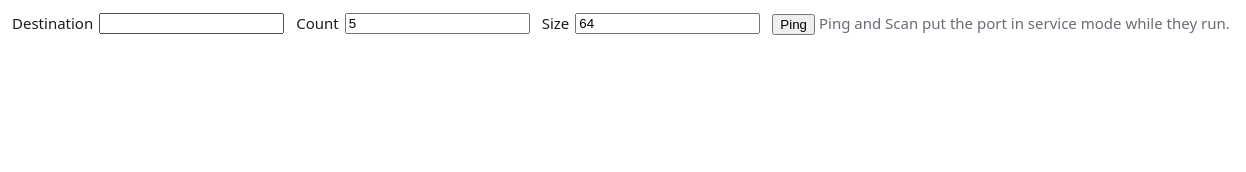
it: PingPanel › shows a rejected ping and a failed service restore
The image size is (1246, 172).
Type "2.2.2.2" into the field labelled "Destination" at (192, 23), box [99,13,284,34]
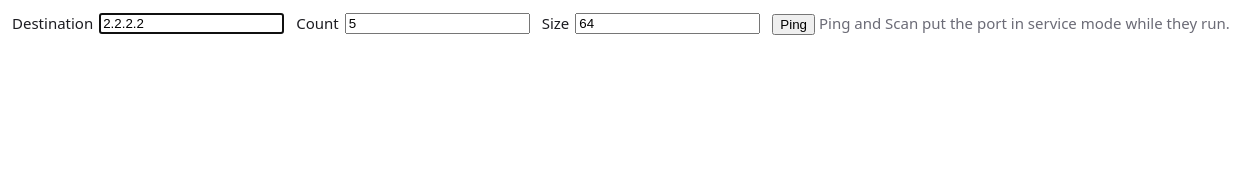
Click the button "Ping" at (794, 24), box [772,14,815,35]
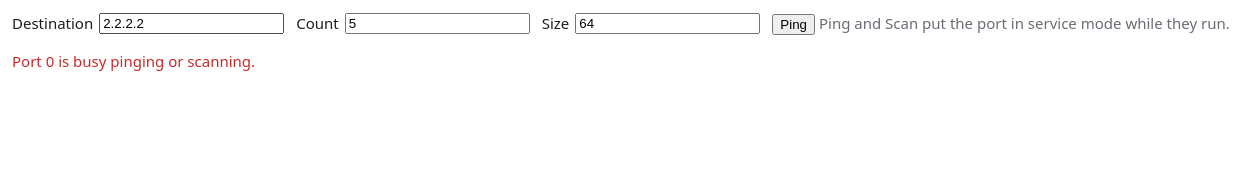
Expected: the text "Port 0 is busy pinging or scanning." is shown, [12,51,255,71]
Click the button "Ping" at (794, 24), box [772,14,815,35]
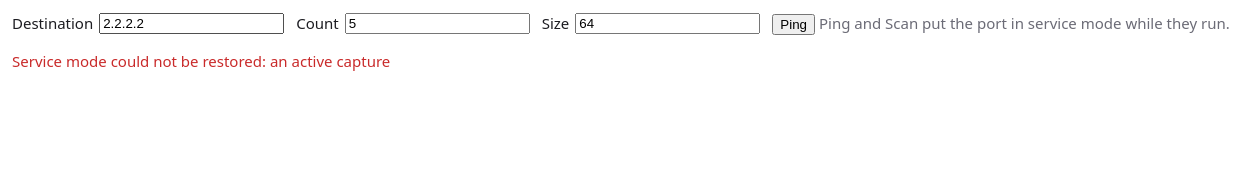
Expected: the text "Service mode could not be restored: an active capture" is shown, [12,51,390,71]
